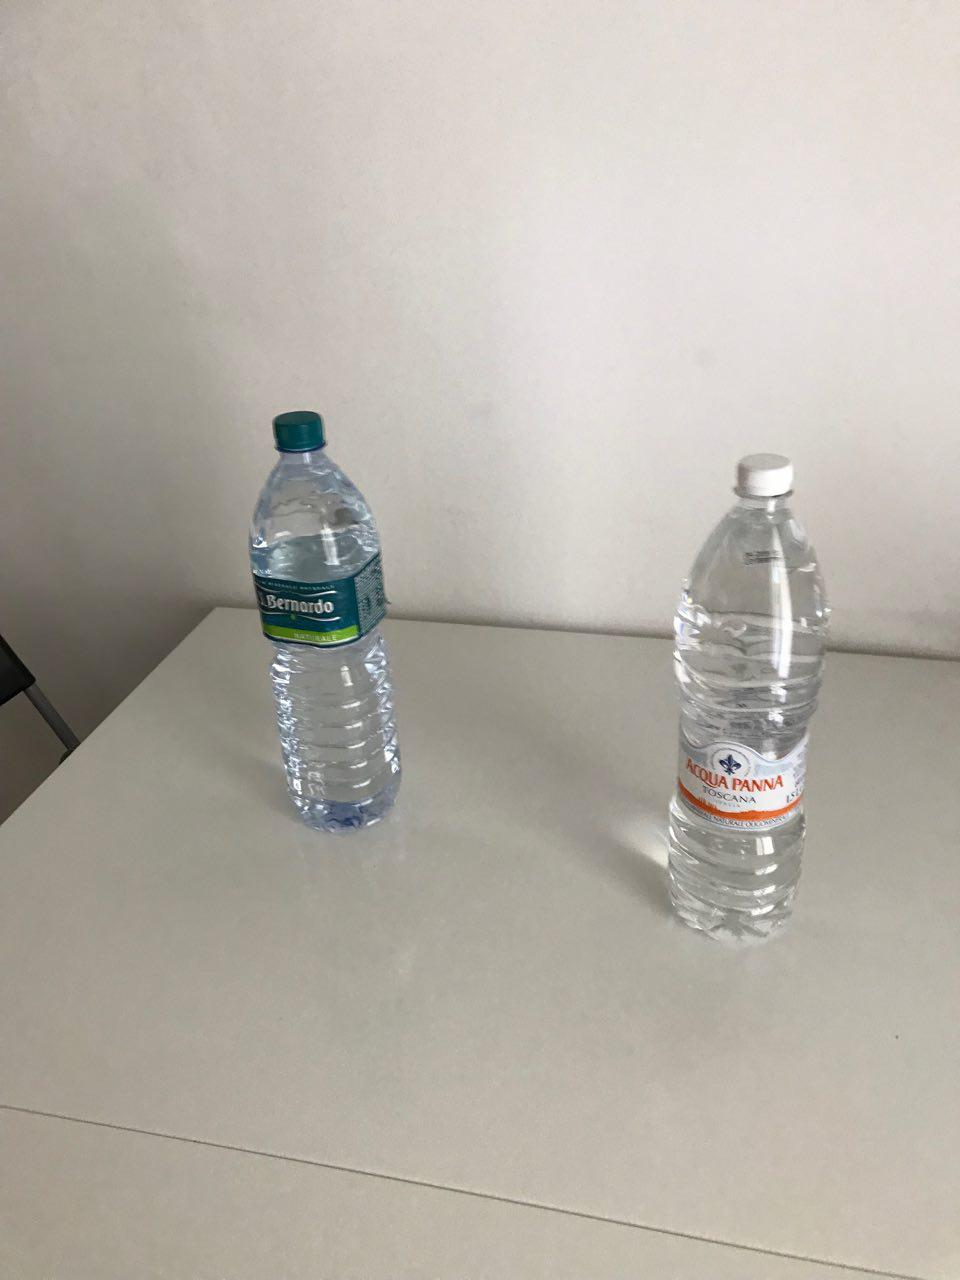san_bernardo: (247, 409, 403, 834)
